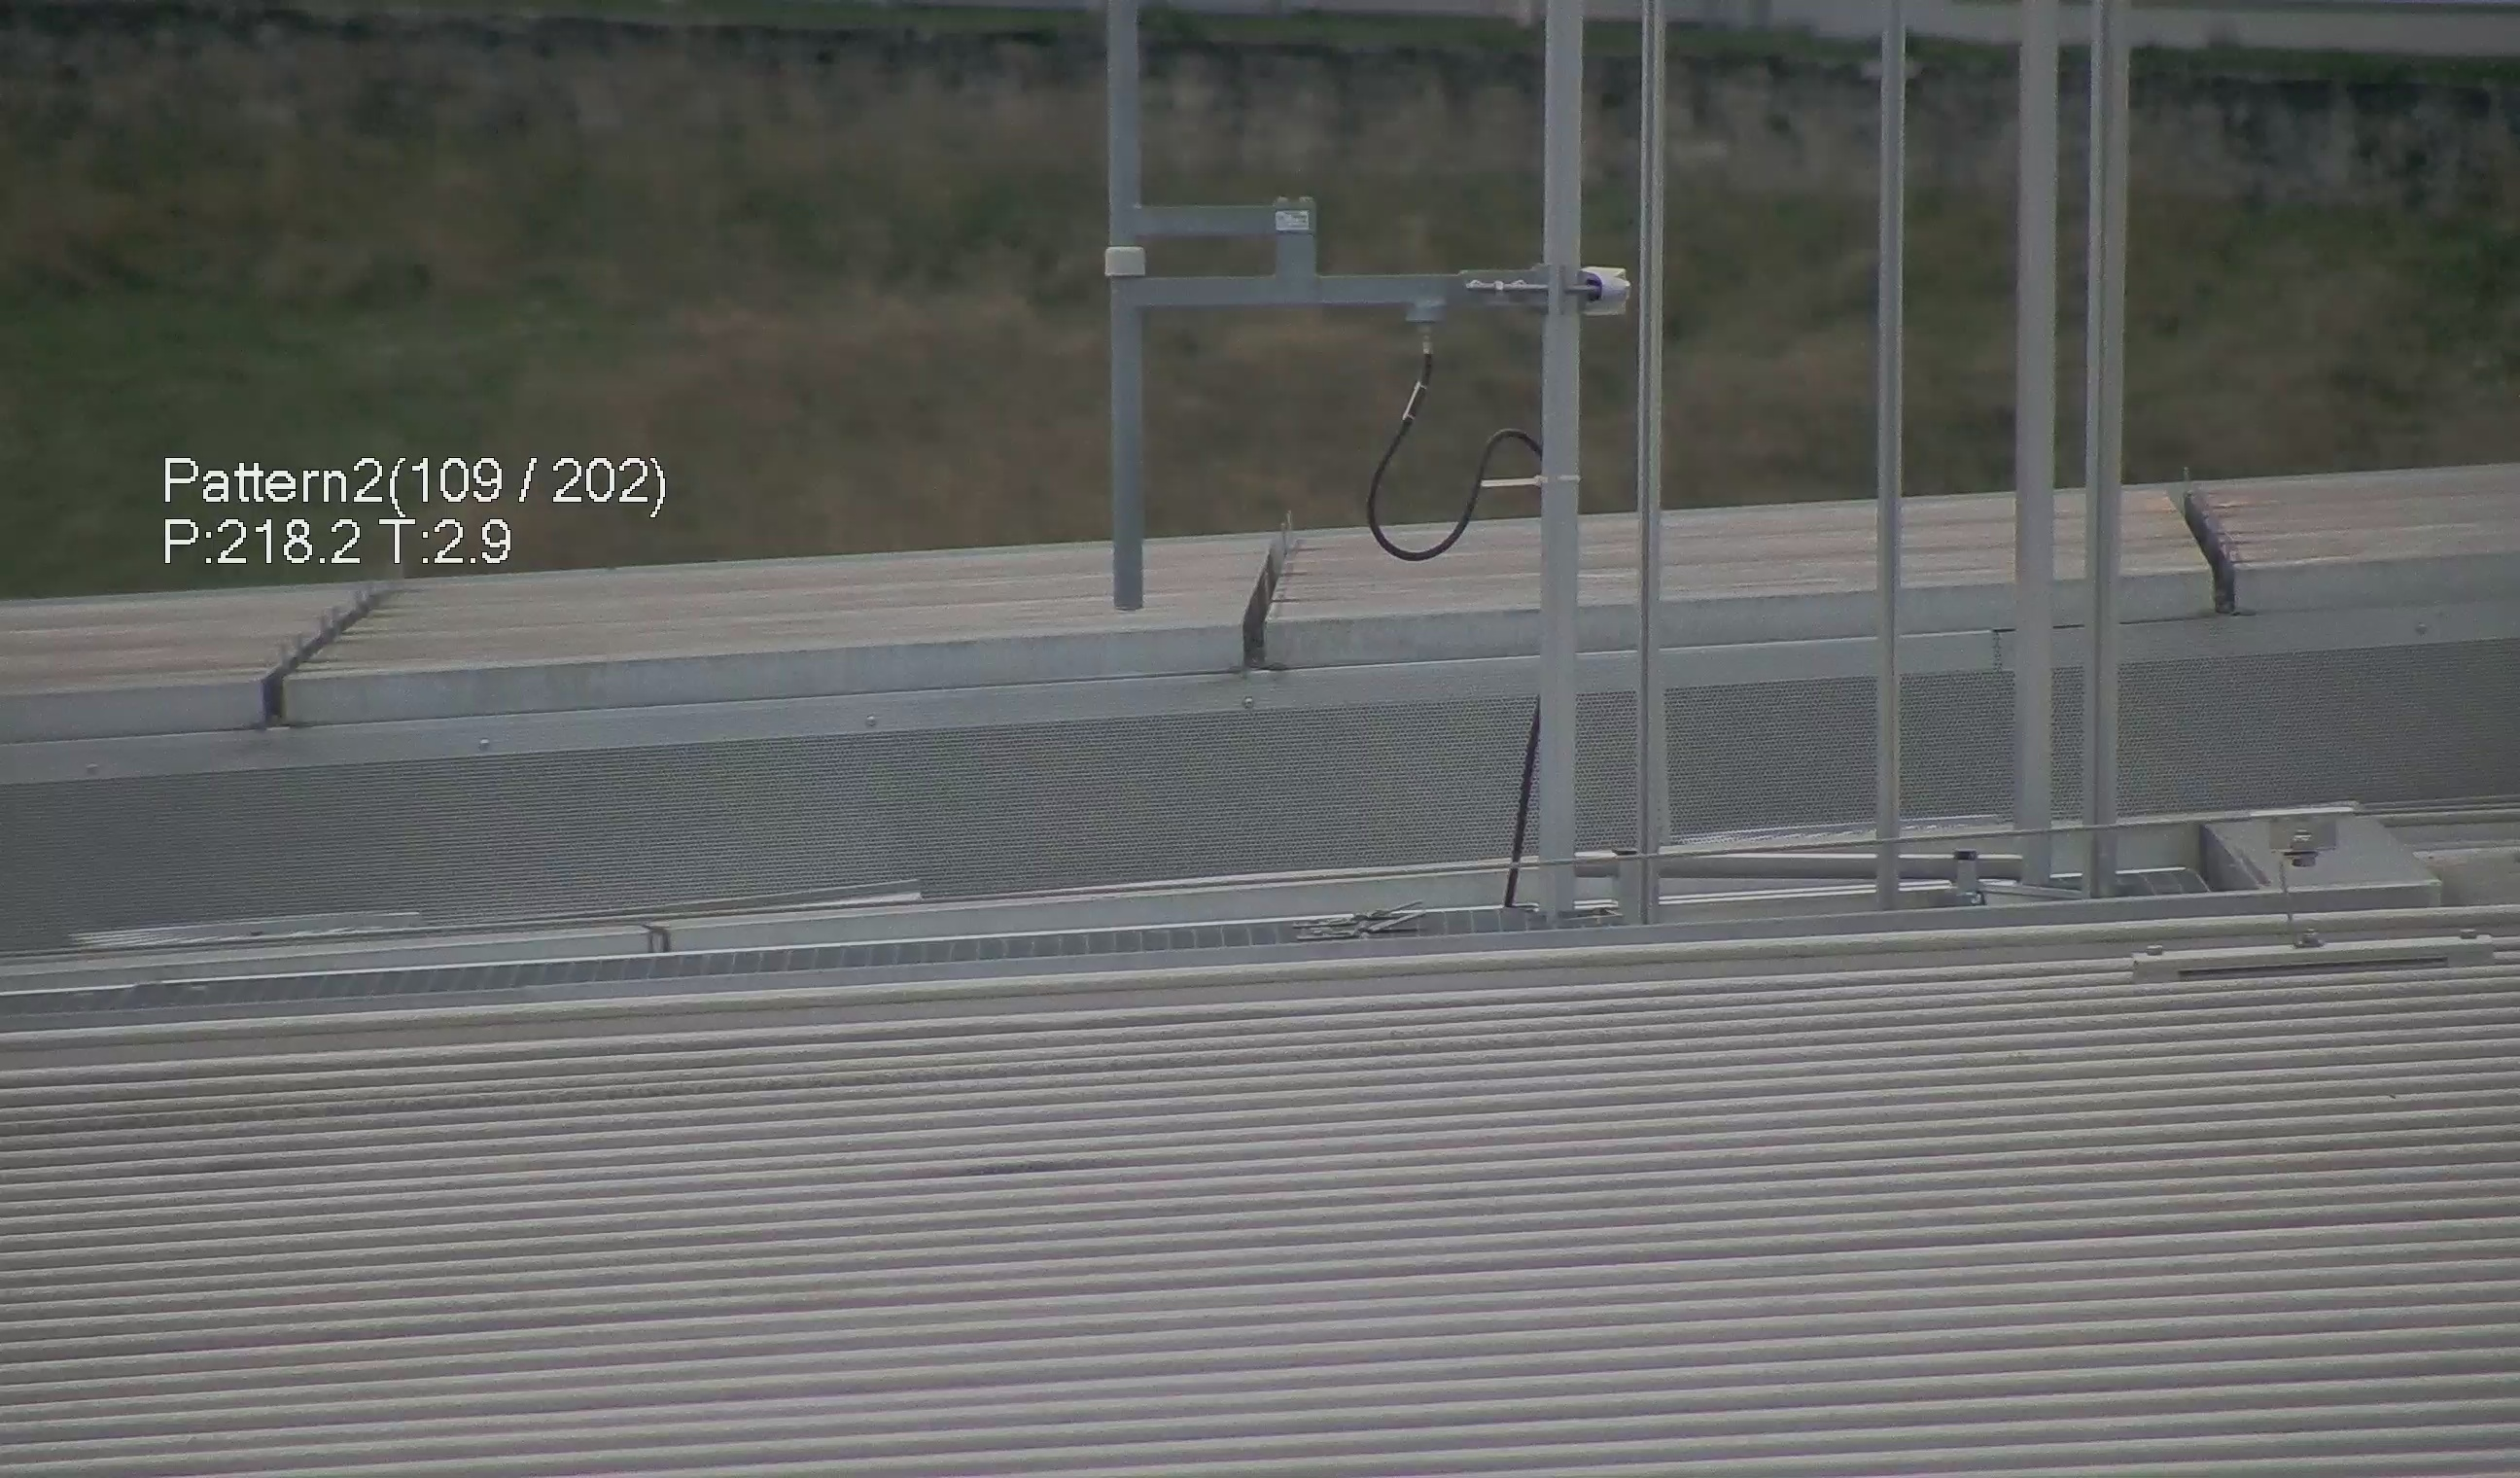Other: (2170, 470, 2260, 618)
